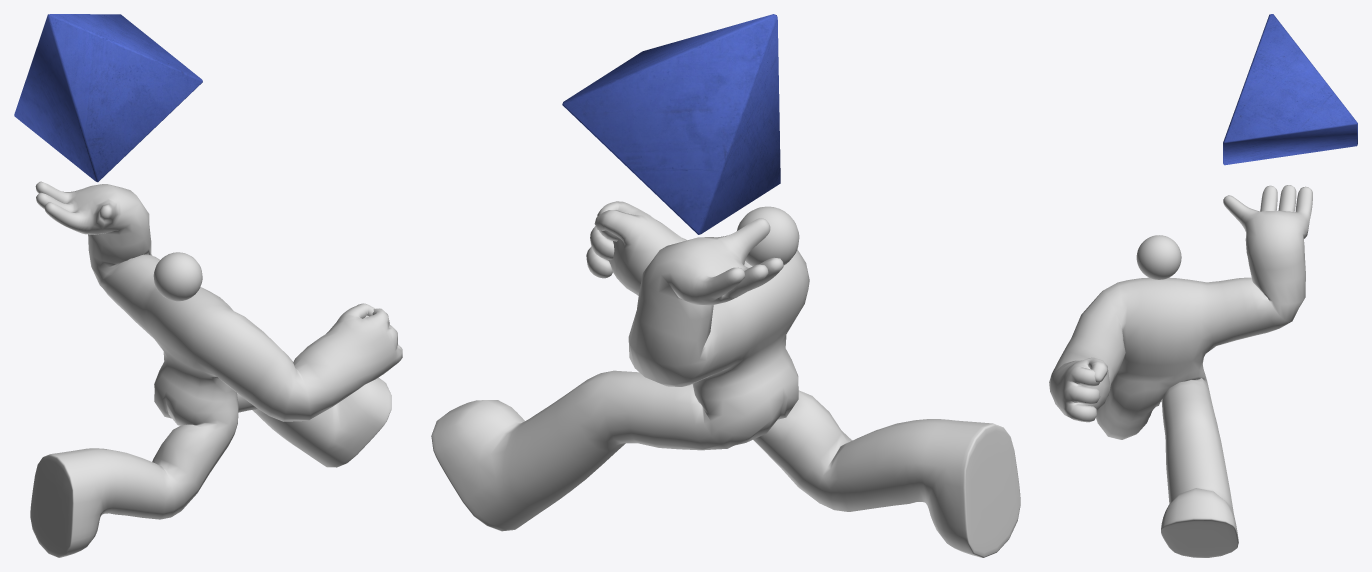
The model's file is kv1-man2.gltf.
3 views of the same model, side by side, from view 1: azimuth 30°, elevation 25°; view 2: azimuth 150°, elevation 25°; view 3: azimuth 270°, elevation 25° (orthographic). The views are drawn at different scales.
Visible parts, largest first — view 1: man2, Pyramid; view 2: man2, Pyramid; view 3: man2, Pyramid.
Part boxes in pixels (x1,y1,x2,y2): man2: [30, 181, 402, 557]; Pyramid: [14, 14, 202, 182]; man2: [431, 201, 1020, 557]; Pyramid: [562, 14, 780, 234]; man2: [1049, 185, 1312, 557]; Pyramid: [1223, 14, 1357, 165].
Size of the model in its own units: 36.18 by 43.66 by 27.81.
Materials: 2 (2 with a texture image).
